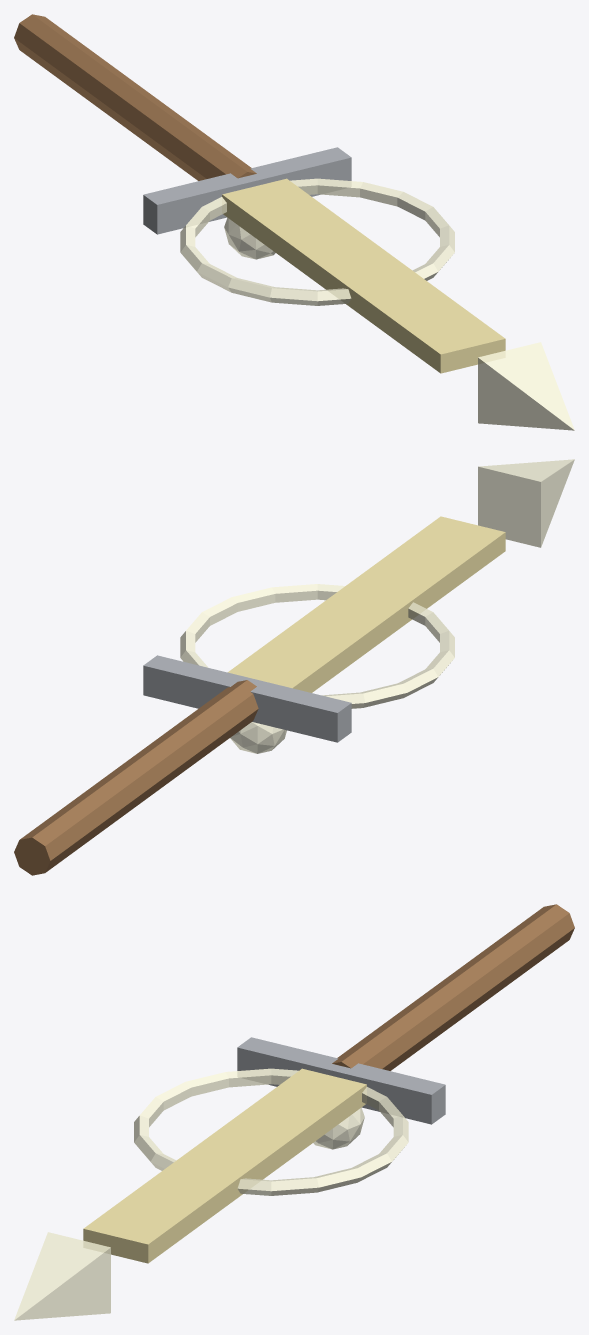
File: 03_magic_weapon_upgrade.glb
3 views of the same model, one above another, from view 1: azimuth 30°, elevation 25°; view 2: azimuth 150°, elevation 25°; view 3: azimuth 330°, elevation 25° (orthographic).
Visible parts, largest first — view 1: enchanted_blade_or_focus, weapon_handle, rune_orbit, weapon_guard, weapon_tip, gem_socket; view 2: enchanted_blade_or_focus, weapon_handle, weapon_guard, weapon_tip, rune_orbit, gem_socket; view 3: enchanted_blade_or_focus, weapon_handle, rune_orbit, weapon_guard, weapon_tip, gem_socket.
Boxes of the visible parts, left/top/right/bottom form: enchanted_blade_or_focus: left=222, top=178, right=505, bottom=373; weapon_handle: left=14, top=14, right=256, bottom=180; rune_orbit: left=180, top=178, right=454, bottom=305; weapon_guard: left=143, top=147, right=351, bottom=234; weapon_tip: left=478, top=342, right=574, bottom=430; gem_socket: left=224, top=217, right=275, bottom=259; enchanted_blade_or_focus: left=228, top=516, right=505, bottom=692; weapon_handle: left=14, top=680, right=258, bottom=875; weapon_guard: left=143, top=655, right=351, bottom=742; weapon_tip: left=478, top=459, right=574, bottom=547; rune_orbit: left=180, top=584, right=454, bottom=708; gem_socket: left=230, top=722, right=286, bottom=753; enchanted_blade_or_focus: left=83, top=1068, right=366, bottom=1263; weapon_handle: left=332, top=904, right=574, bottom=1070; rune_orbit: left=134, top=1068, right=408, bottom=1195; weapon_guard: left=237, top=1037, right=445, bottom=1124; weapon_tip: left=14, top=1232, right=110, bottom=1320; gem_socket: left=313, top=1107, right=364, bottom=1149.
Size of the model in its own units: 0.596 by 0.2178 by 2.32.
